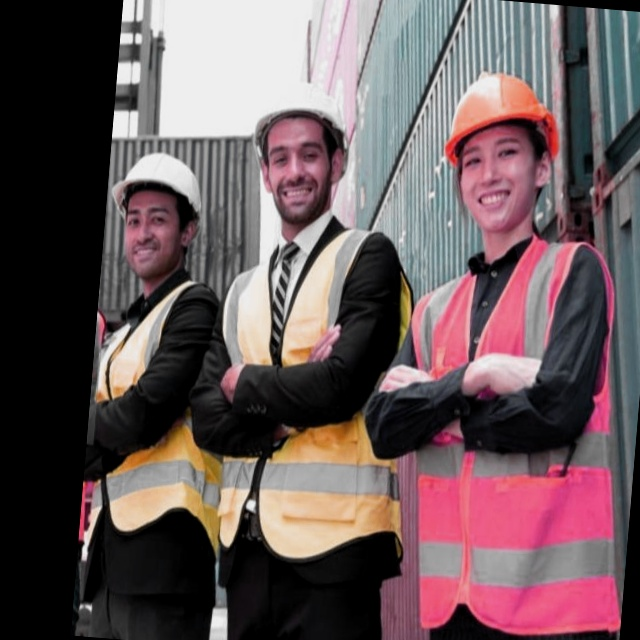Con_Casco: (439, 64, 563, 239), (244, 78, 356, 232), (101, 148, 206, 279)
Con_Chaleco: (385, 232, 627, 635), (198, 216, 411, 559), (77, 274, 236, 571)
